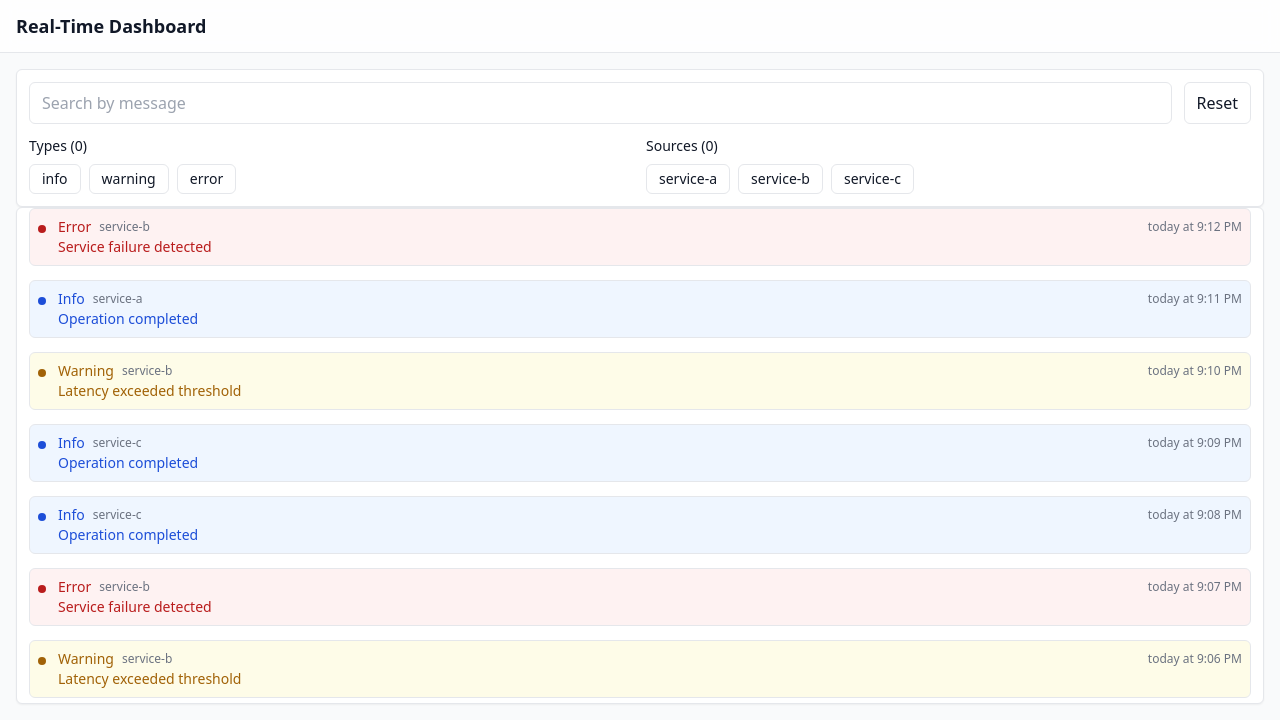
Scenario: Search › should handle empty search query
expect the 1st button with test id "event-row" is shown: met, box [29,208,1251,266]
Type "test-query-123" into the field with test id "search-input".
click(601, 103); type("test-query-123")  # box [29,82,1172,124]
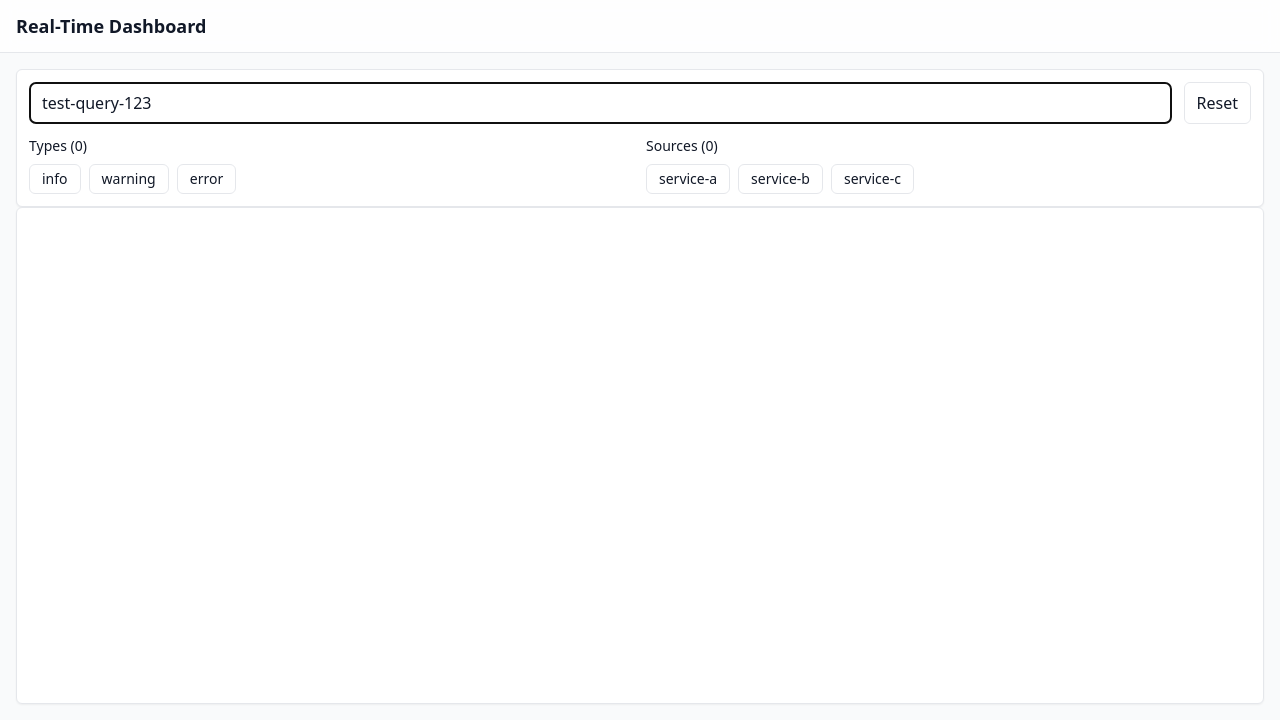
Clear the field with test id "search-input" at (601, 103), box [29,82,1172,124]
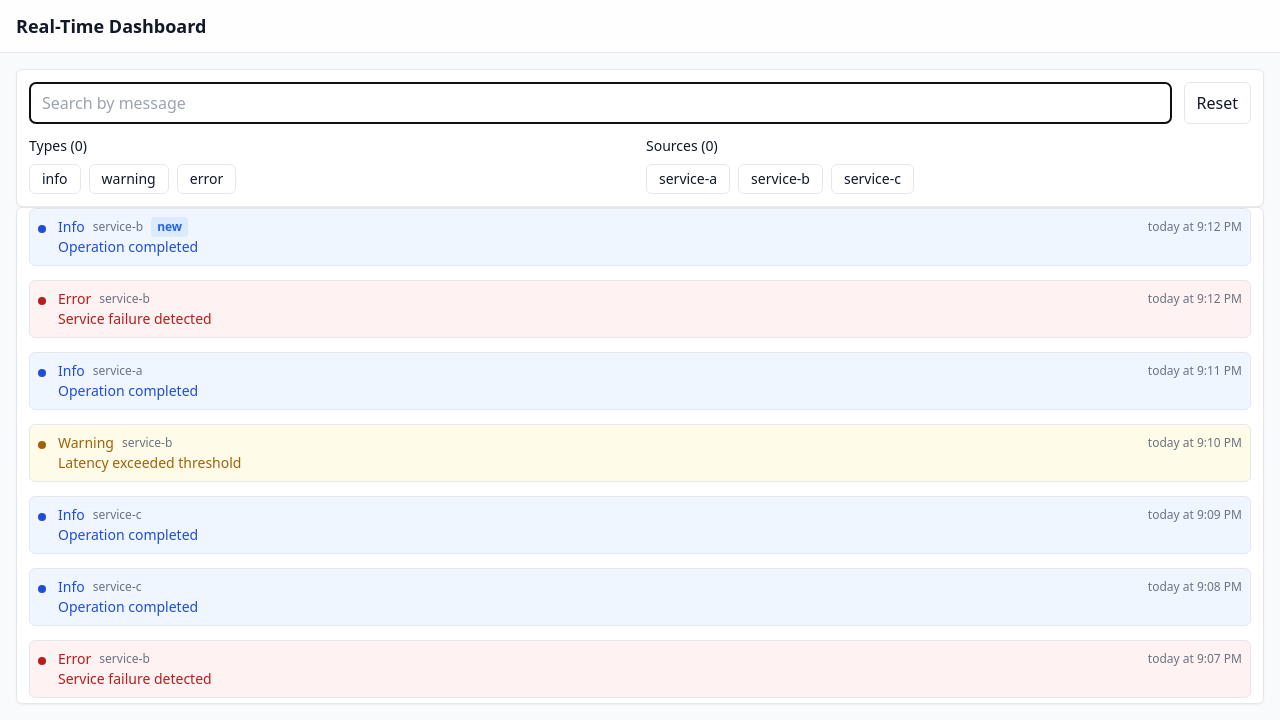
expect the number of buttons with test id "event-row" is at least 1: met
